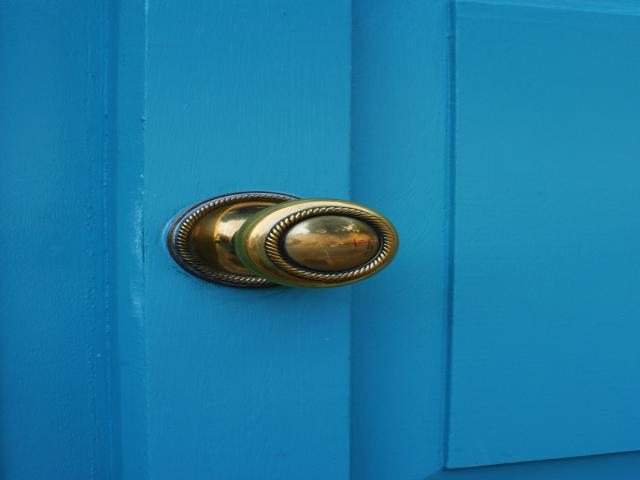Door-handle: (169, 189, 398, 290)
